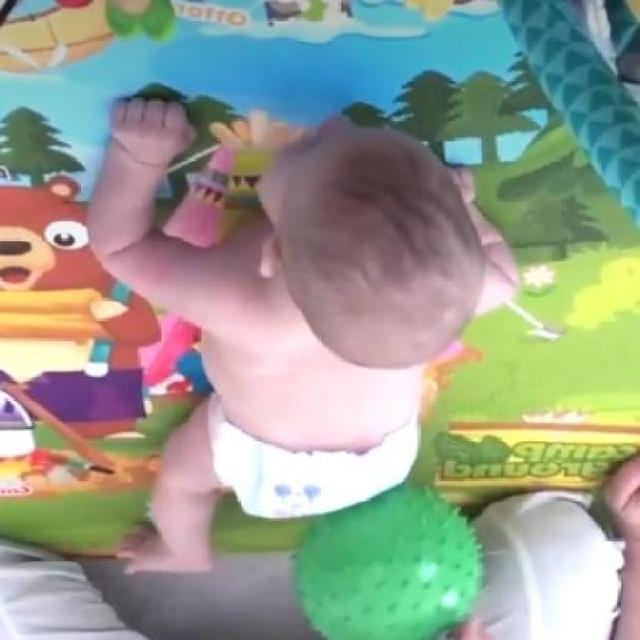baby: (81, 97, 517, 580)
